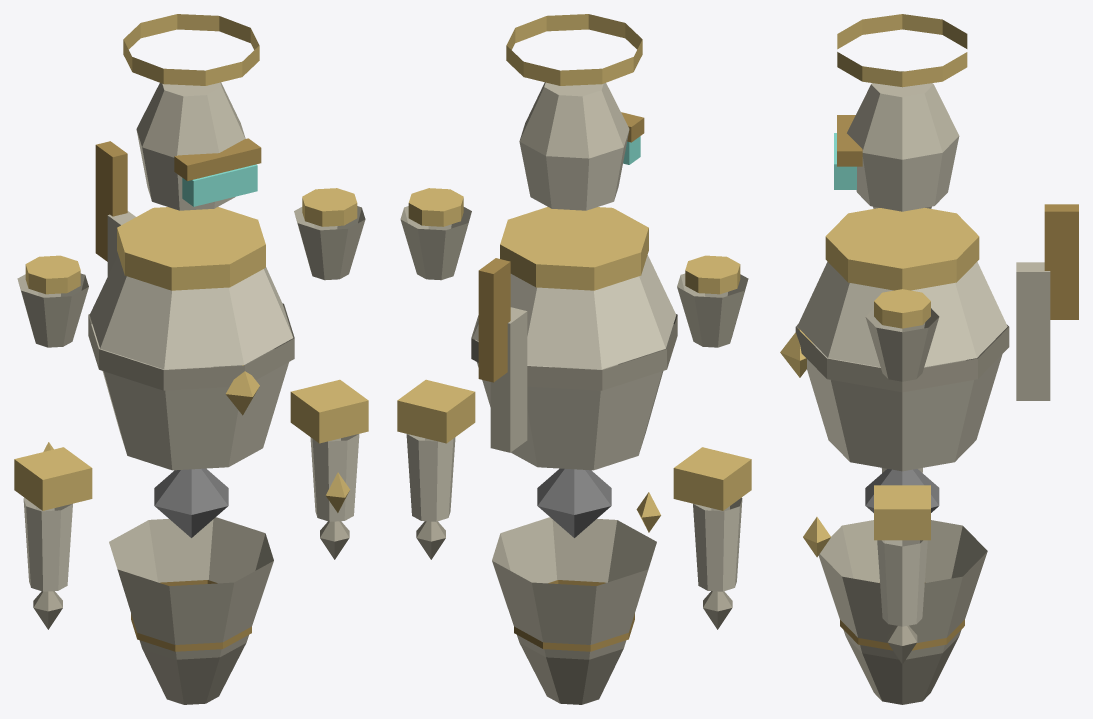
Rendered from acolyte.obj.
The picture shows the model from 3 angles, left to right: view 1: azimuth 30°, elevation 25°; view 2: azimuth 150°, elevation 25°; view 3: azimuth 270°, elevation 25°; orthographic projection.
Parts seen in each view (by area): view 1: acolyte; view 2: acolyte; view 3: acolyte.
Boxes of the visible parts, <box> form: acolyte: <box>14,14,368,704</box>; acolyte: <box>397,14,751,704</box>; acolyte: <box>780,14,1078,704</box>.
Bounding box in the file's own units: 1.38 × 2.52 × 1.05.
